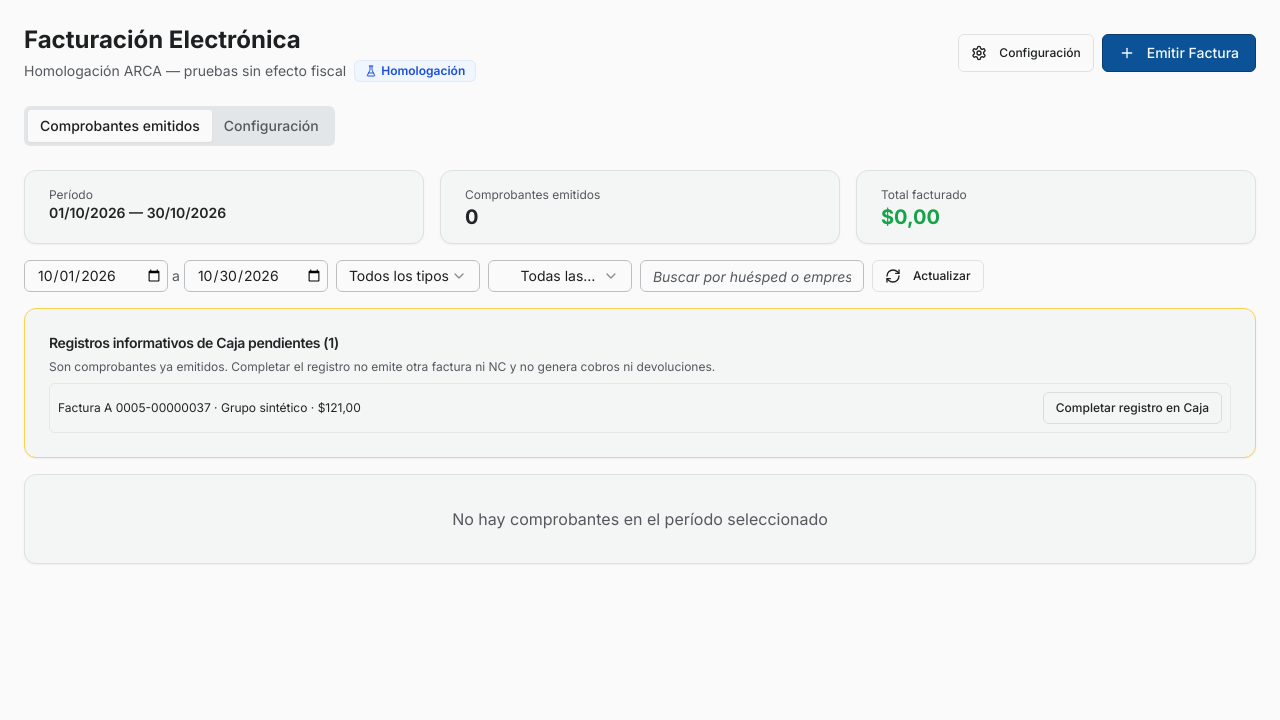
it: recupera únicamente el registro de Caja y permite reintentar un fallo
The width and height of the screenshot is (1280, 720).
Click the button with test id "btn-complete-cash-information-703".
click(1132, 408)  # box [1043,392,1222,424]
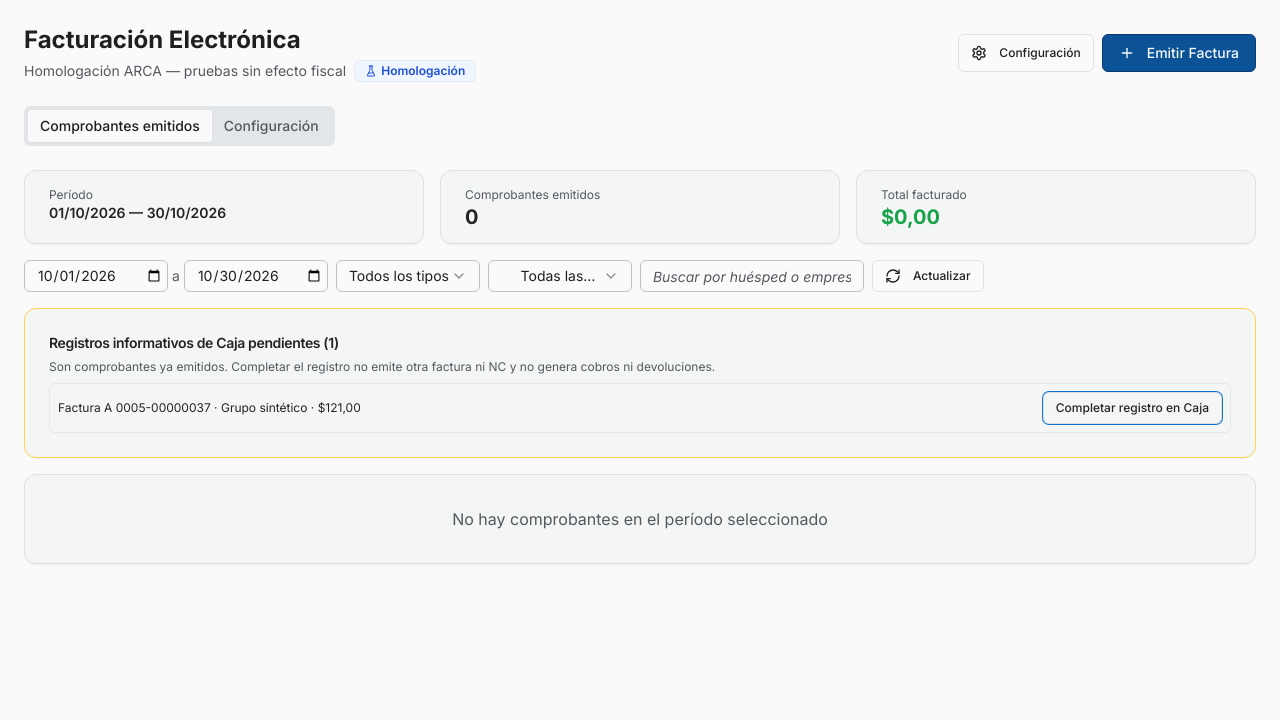
Click the button with test id "btn-complete-cash-information-703".
click(1132, 408)  # box [1043,392,1222,424]
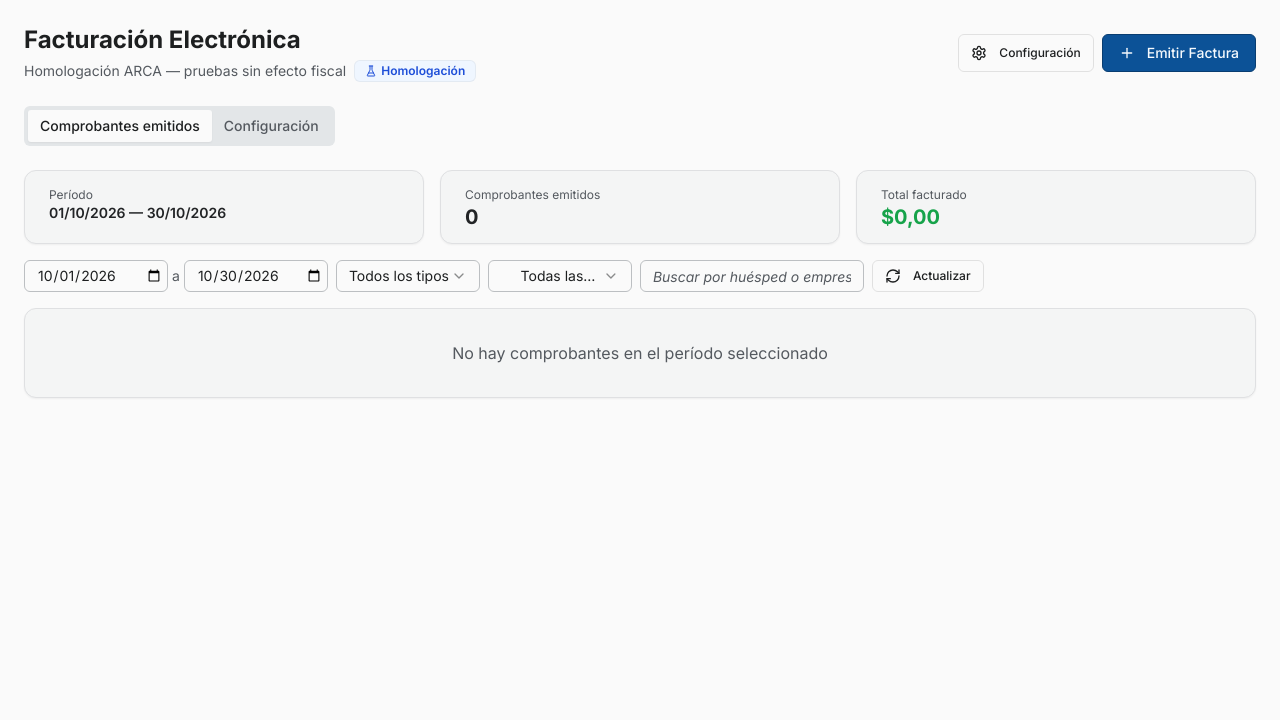
expect the button with test id "btn-complete-cash-information-703" is gone: met
